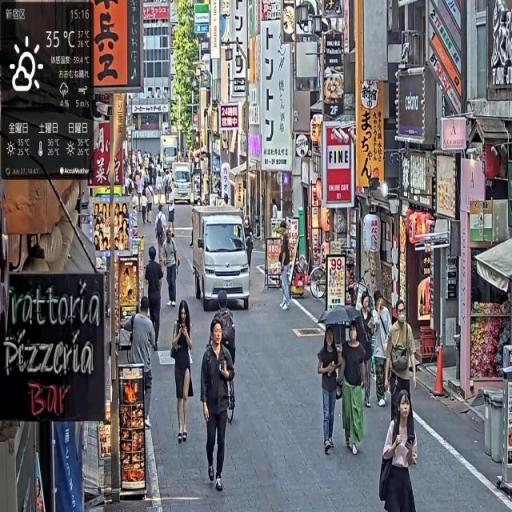person: (200, 318, 236, 492), (380, 388, 420, 512), (123, 296, 157, 428), (339, 321, 370, 459), (385, 303, 420, 424), (317, 326, 344, 456), (171, 300, 195, 444), (210, 292, 237, 409), (371, 291, 393, 410), (356, 290, 376, 412), (145, 250, 164, 352), (163, 227, 181, 308), (279, 223, 291, 313), (155, 204, 169, 270), (244, 216, 256, 266), (167, 187, 176, 238), (146, 183, 155, 224), (140, 192, 149, 225)
